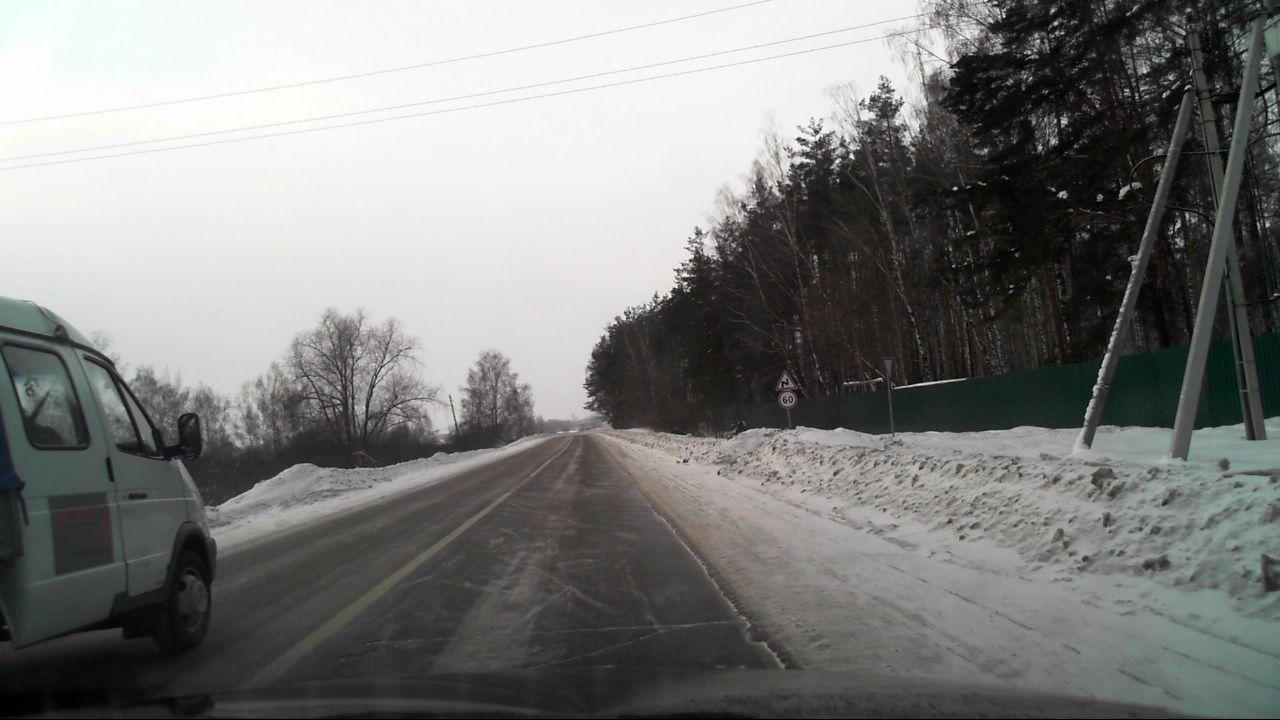1_12_1: (775, 369, 797, 390)
2_4: (881, 355, 896, 377)
3_24: (779, 390, 798, 410)
